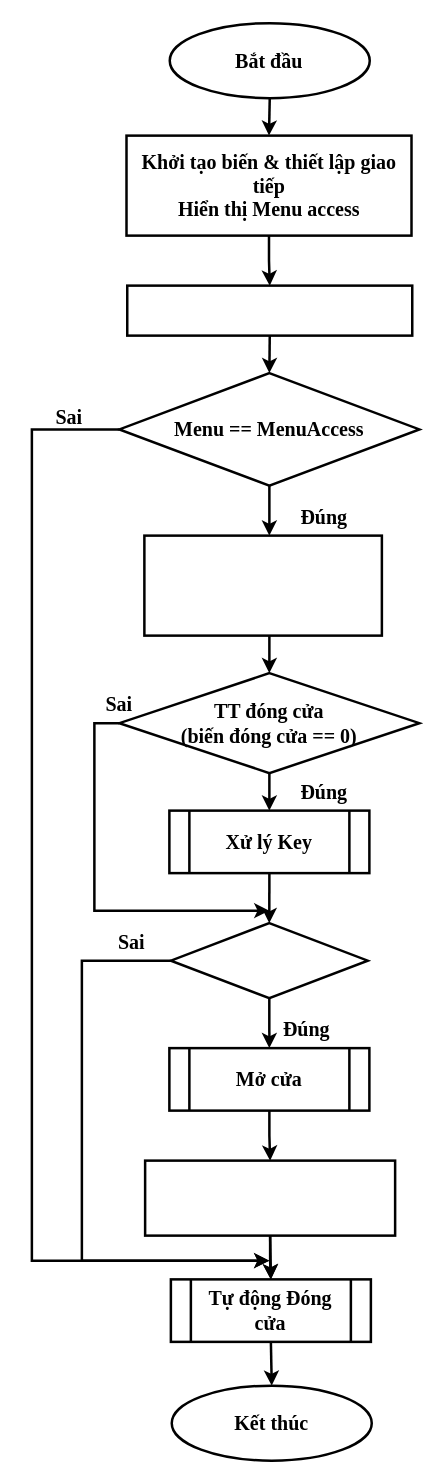
The diagram is 441 pixels wide and 1483 high, and some of its shapes have lost their labels. The centre of each missing label's shape, as x and y in pixels:
"Hiển thị thời gian thực Trạng thái cửa Thời gian coutndown" goes at [262,585].
"OpenDoor == 1" goes at [268,960].
"Quay lại Menu access xóa chuỗi keypad OpenDoor = 0" goes at [269,1197].
"Đọc TT kéo cửa" goes at [269,310].
